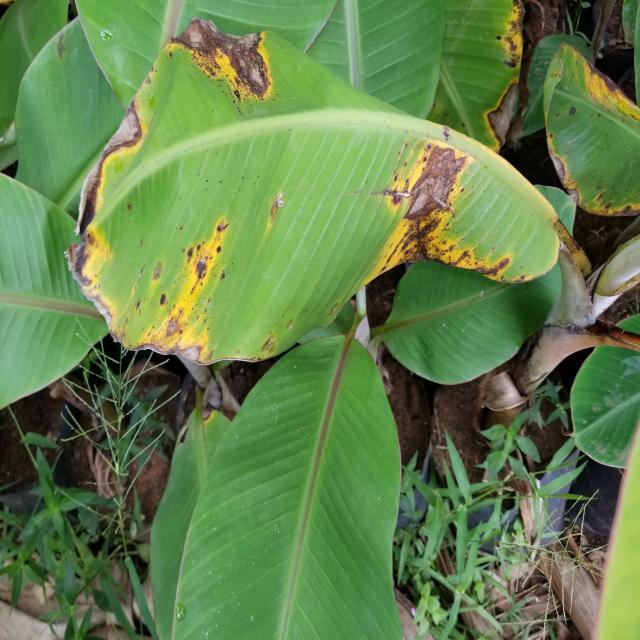Early_rust: (31, 88, 242, 378), (345, 128, 529, 306), (501, 115, 640, 231), (165, 4, 279, 111), (552, 30, 640, 130), (483, 0, 541, 90), (460, 64, 524, 138), (245, 164, 299, 250)
